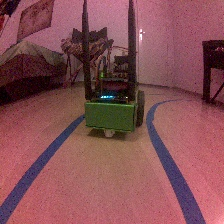rob: (83, 54, 145, 138)
